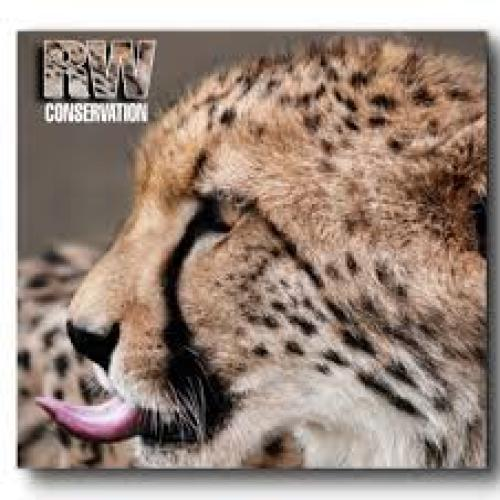cheetah-endangered: (19, 45, 489, 475)
